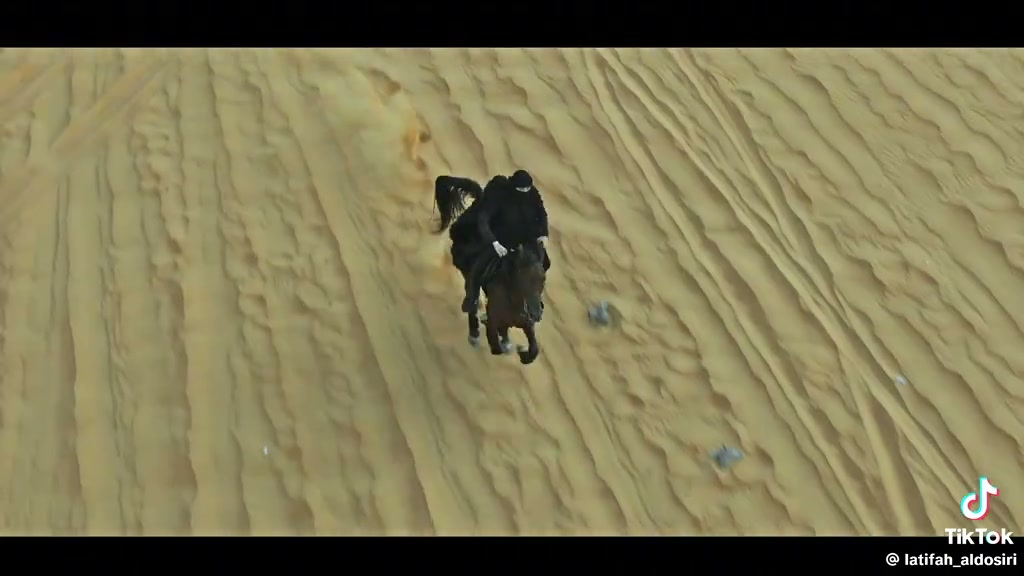animal: (435, 176, 548, 363)
human: (461, 169, 549, 312)
vehicle_track: (591, 48, 986, 536), (271, 70, 525, 554)
